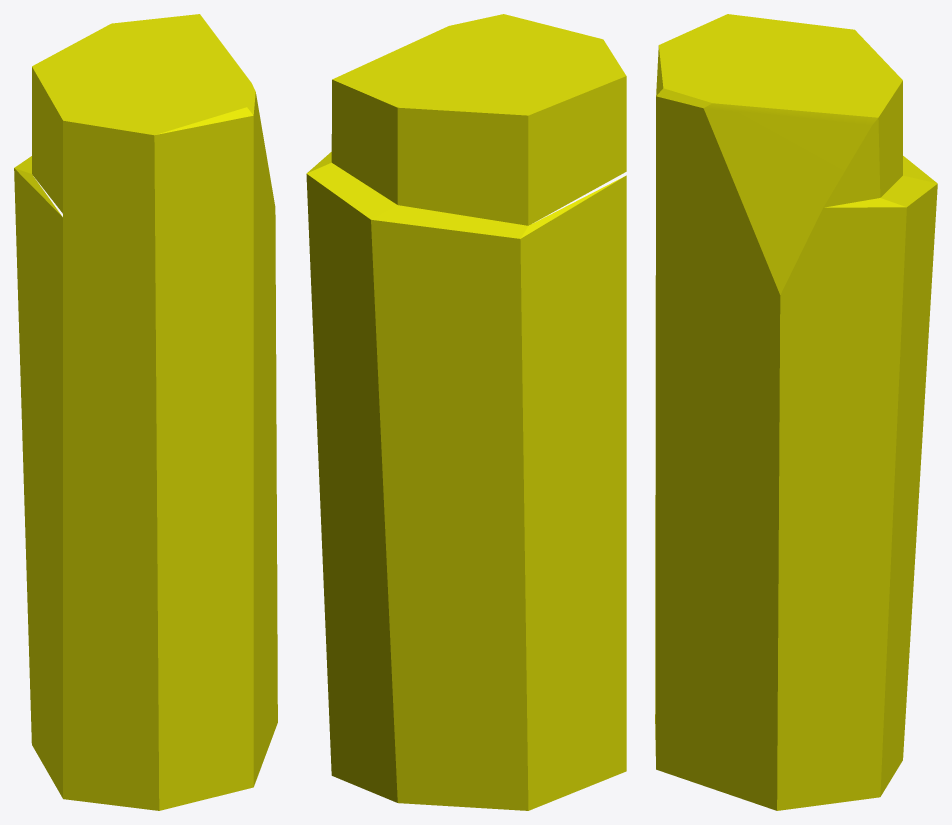
The picture shows the model from 3 angles, left to right: view 1: azimuth 30°, elevation 25°; view 2: azimuth 150°, elevation 25°; view 3: azimuth 270°, elevation 25°; orthographic projection. The views are drawn at different scales.
Parts seen in each view (by area): view 1: stone_001; view 2: stone_001; view 3: stone_001.
Part boxes in pixels (x1=…): stone_001: x1=14, y1=14, x2=277, y2=810; stone_001: x1=306, y1=14, x2=626, y2=810; stone_001: x1=655, y1=14, x2=937, y2=810.
Size of the model in its own units: 1.48 by 4.02 by 1.51.
1 material, 1 textured.
